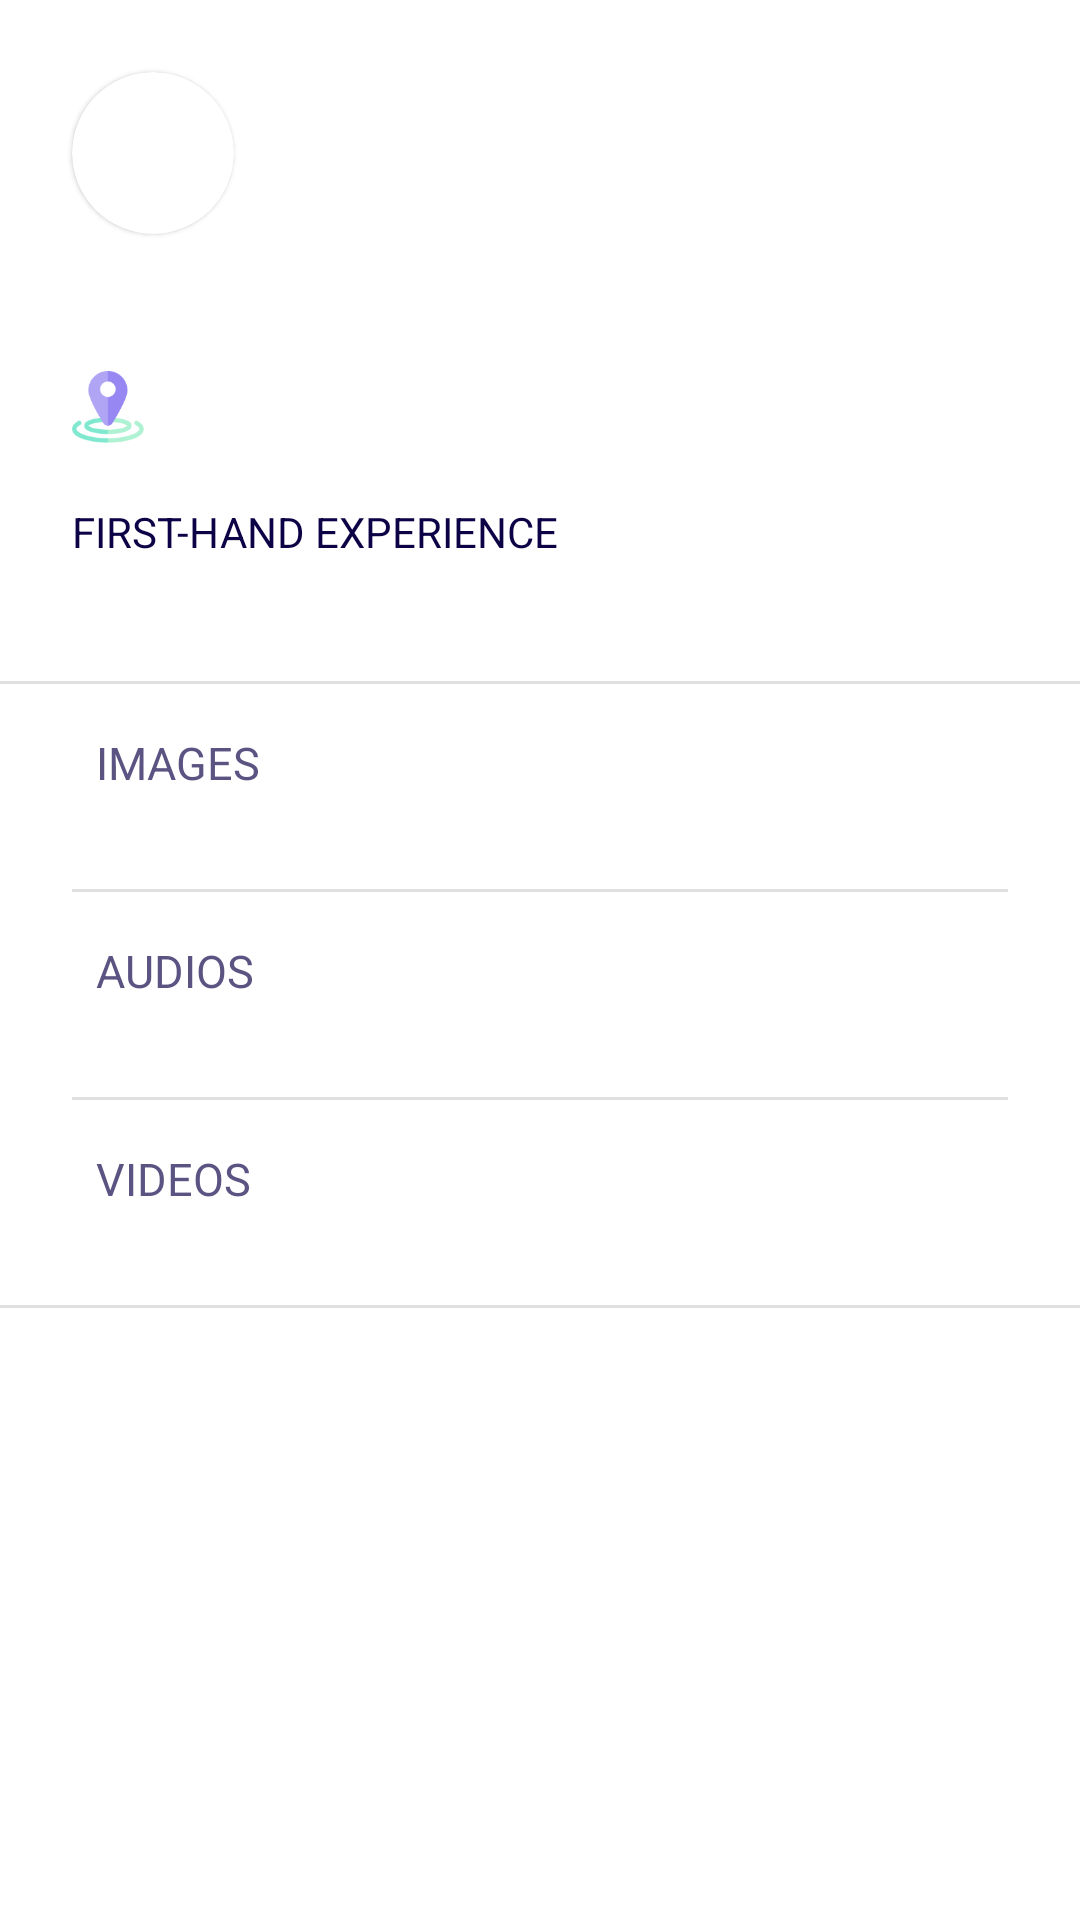

Screen size 1080x1920. Icon name, then its box in pixels as detection(x1, y1, x2, y2):
Location (Required): detection(72, 371, 144, 443)
